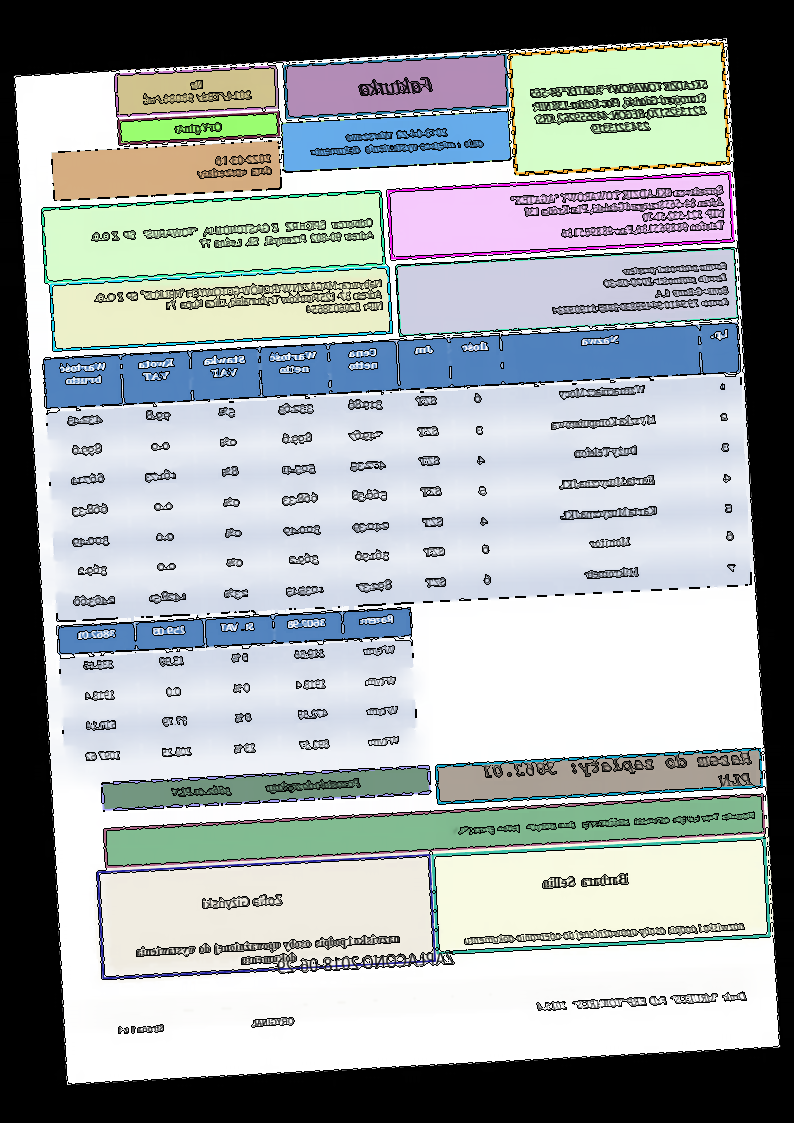Table: (43, 321, 753, 622), (57, 606, 420, 777)
TextBox: (94, 276, 386, 327), (482, 751, 755, 801), (510, 182, 729, 243), (86, 215, 376, 257), (529, 76, 713, 140), (547, 258, 732, 319), (134, 932, 403, 971), (448, 809, 758, 838), (463, 919, 747, 949), (308, 123, 486, 159), (534, 989, 748, 1013), (275, 950, 457, 977), (167, 776, 364, 800), (116, 1014, 296, 1036), (139, 75, 255, 107), (194, 151, 275, 182), (357, 75, 436, 98), (200, 892, 285, 912), (542, 872, 630, 890), (171, 119, 225, 137)
